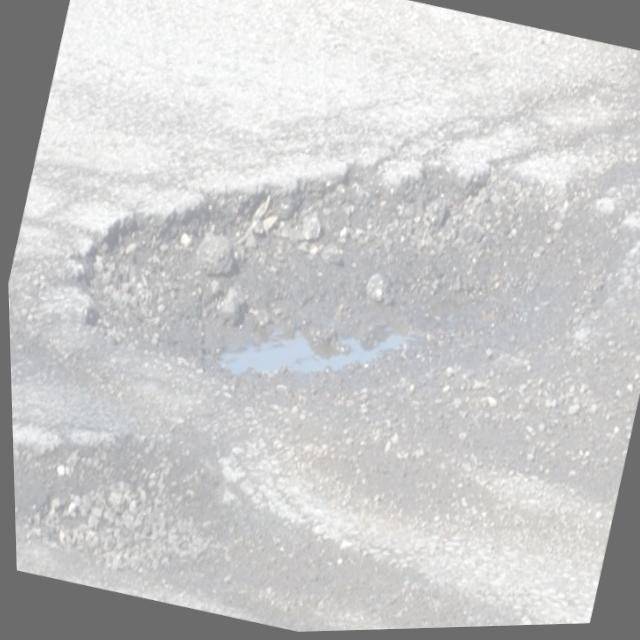Pothole: (90, 163, 635, 409), (22, 416, 511, 628)
